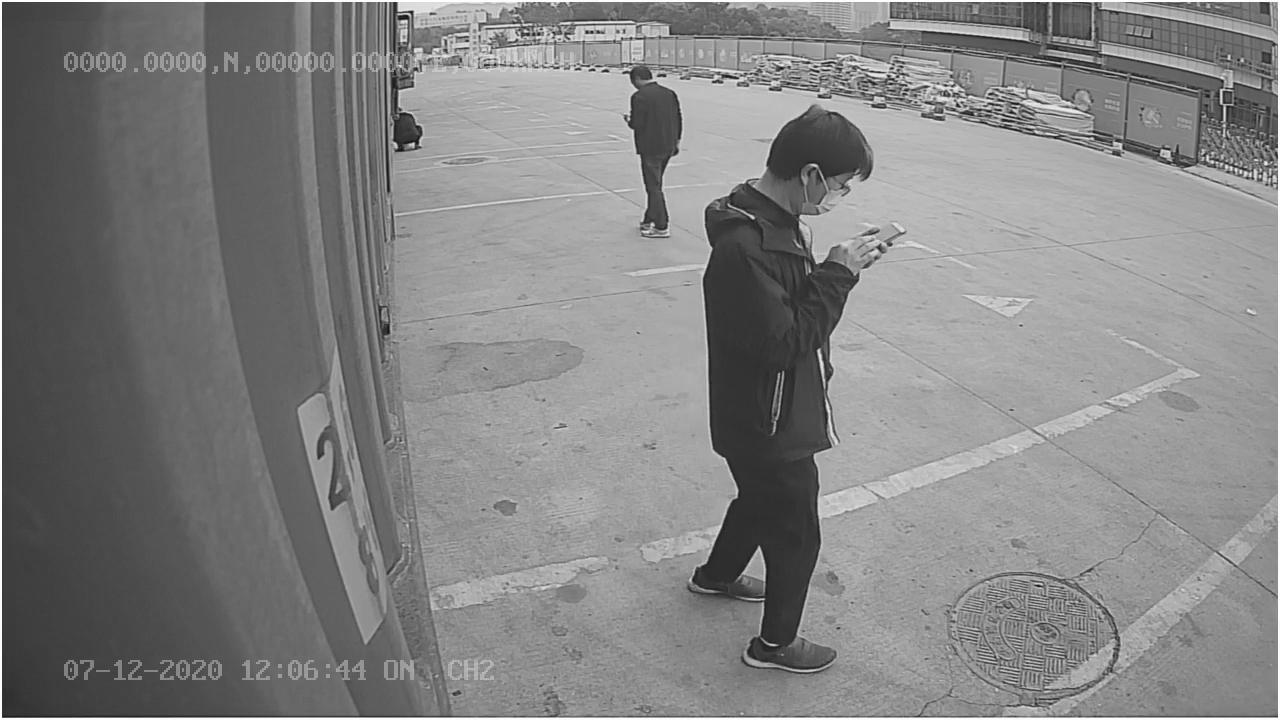person: (687, 101, 895, 666)
